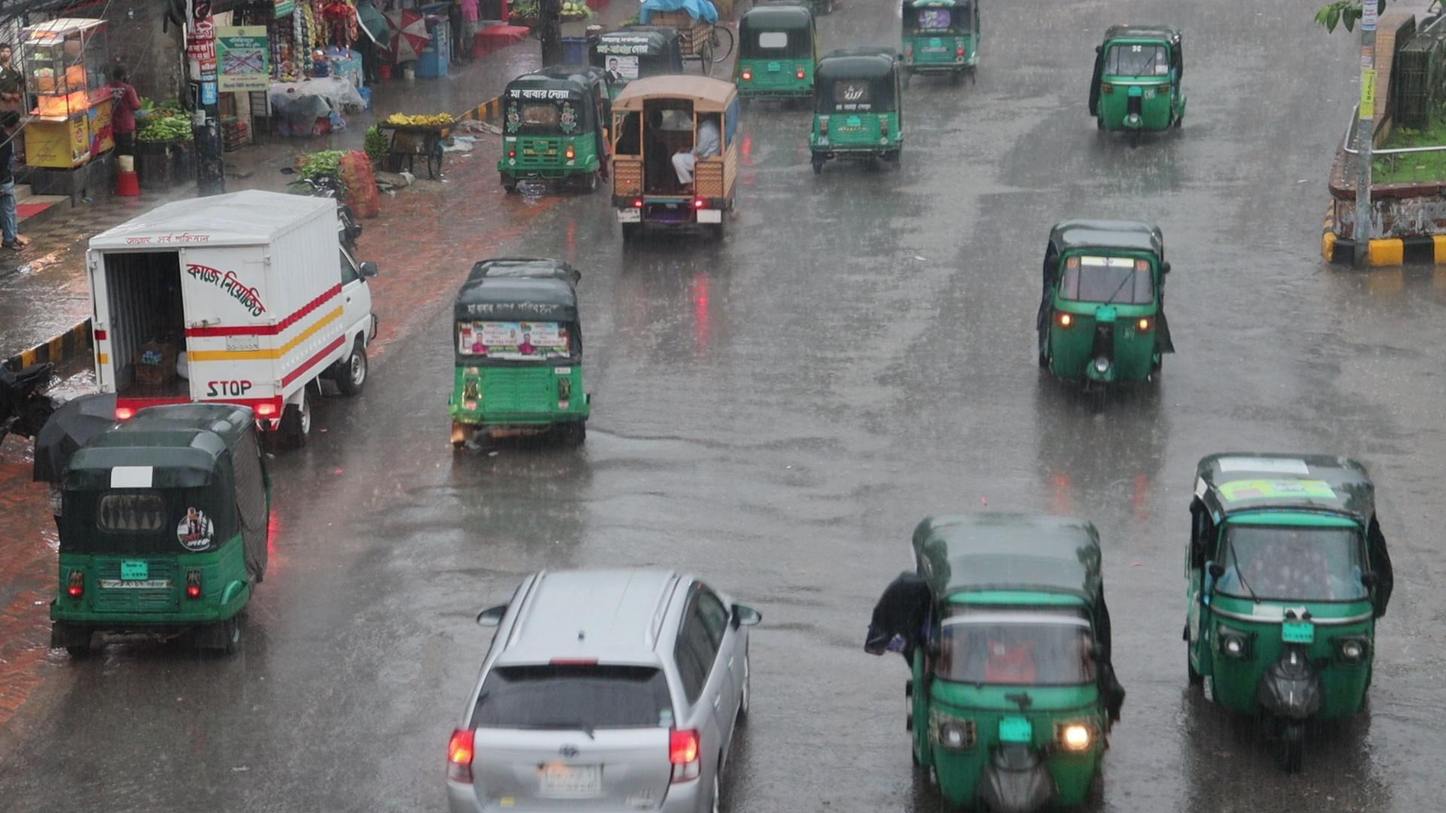Car: (435, 561, 753, 813)
Truck: (602, 71, 740, 263)
